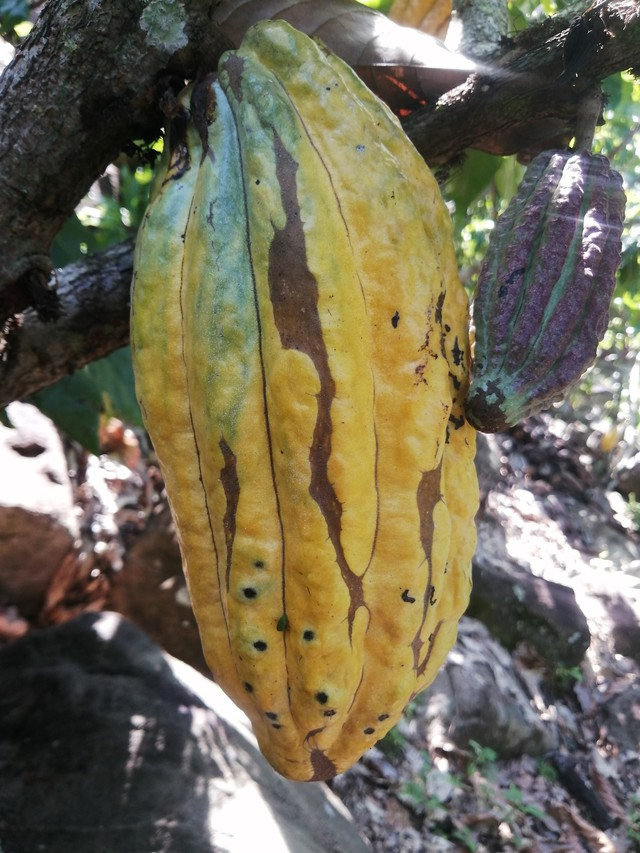moniliophthora perniciosa: (98, 11, 505, 800)
